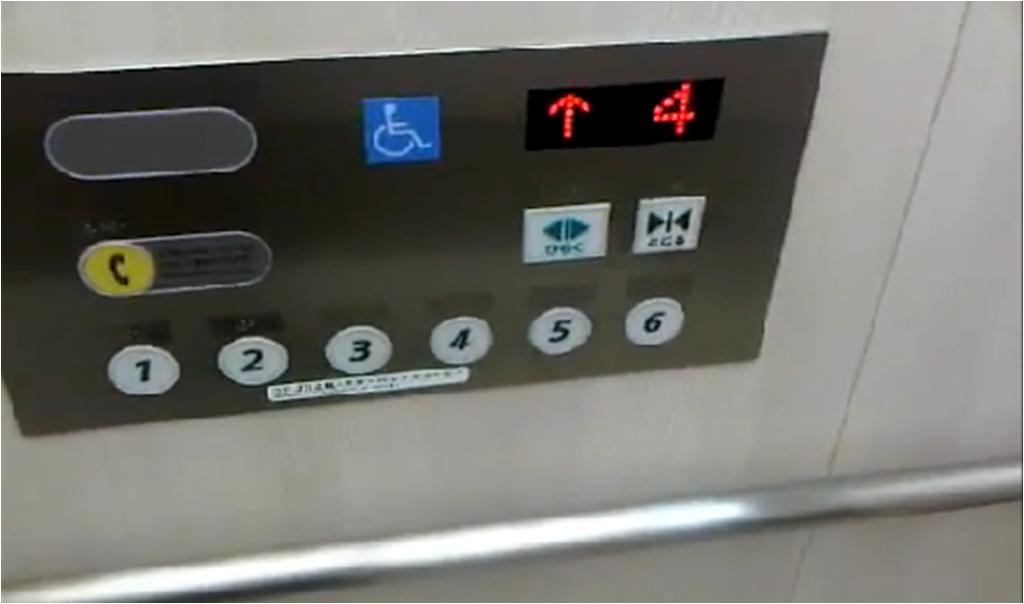1: (105, 341, 182, 398)
2: (214, 332, 289, 387)
3: (321, 324, 397, 376)
4: (429, 311, 495, 372)
5: (523, 304, 595, 358)
6: (621, 296, 684, 350)
CH: (361, 94, 441, 170)
call: (75, 238, 156, 298)
close: (633, 194, 707, 259)
led: (523, 76, 723, 153)
open: (518, 203, 609, 261)
